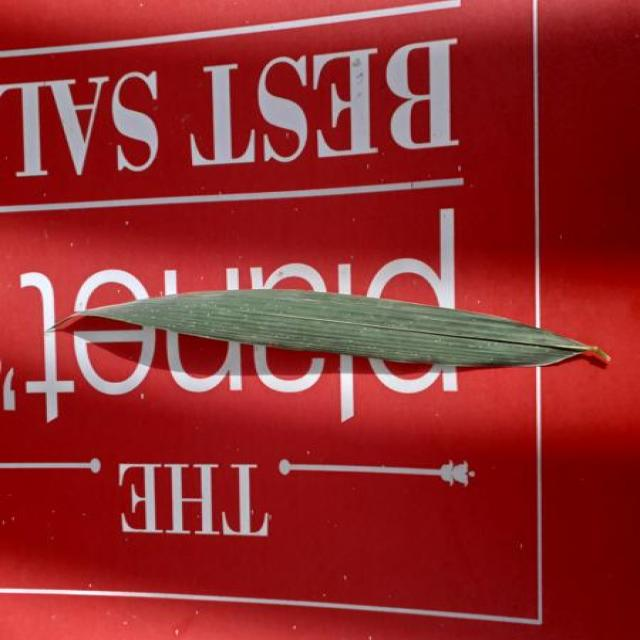Bamboo: (55, 290, 610, 368)
